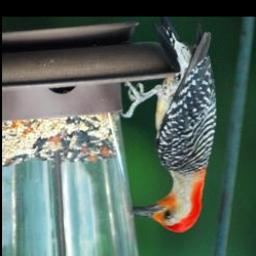Woodpecker: (121, 20, 220, 234)
